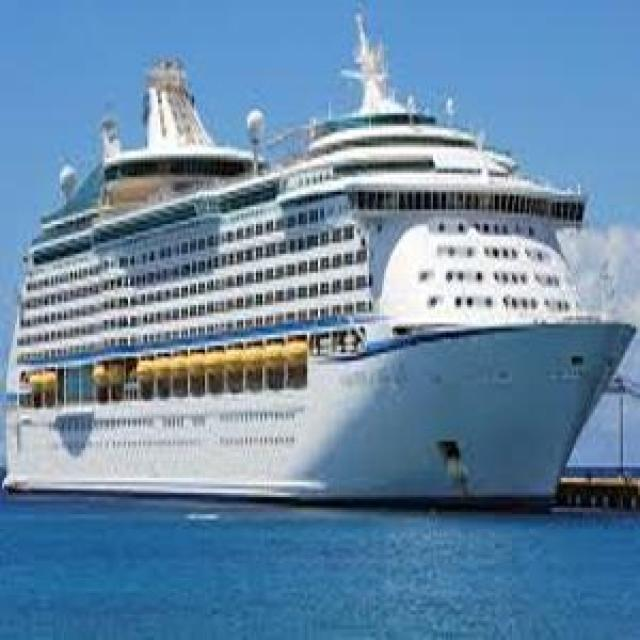passenger ship: (7, 38, 632, 512)
